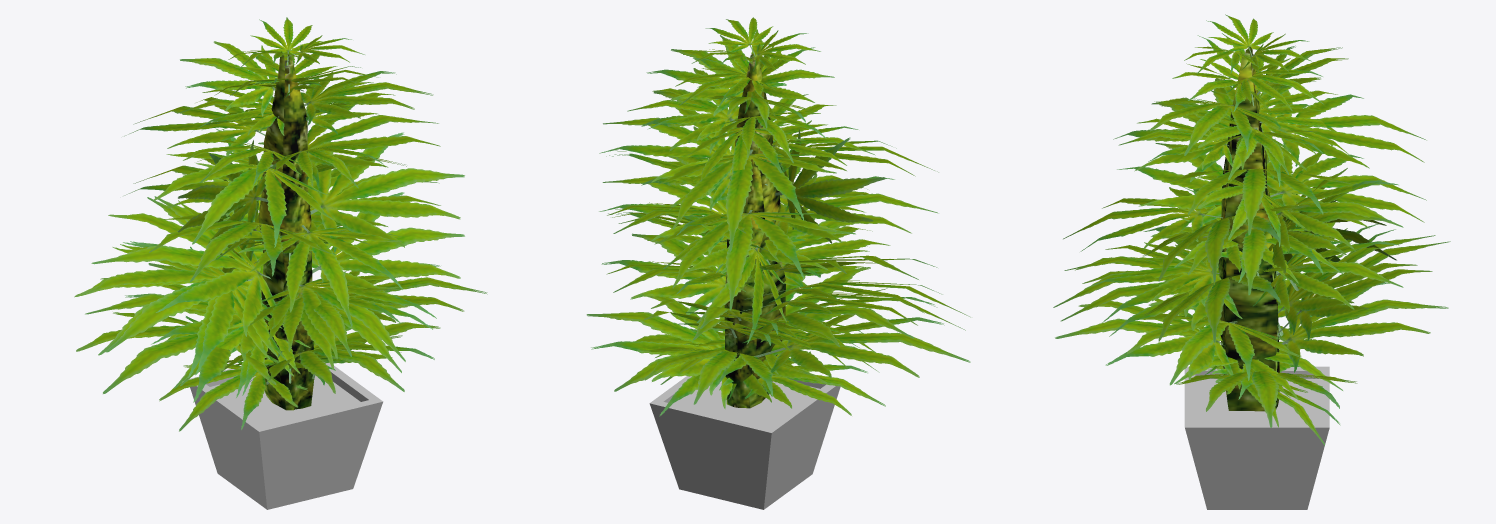
File: kush_plant.FBX
3 views of the same model, side by side, from view 1: azimuth 30°, elevation 25°; view 2: azimuth 150°, elevation 25°; view 3: azimuth 270°, elevation 25° (orthographic). The views are drawn at different scales.
Visible parts, largest first — view 1: kush_plant; view 2: kush_plant; view 3: kush_plant.
Boxes of the visible parts, <box> form: kush_plant: <box>74,17,487,509</box>; kush_plant: <box>586,17,970,509</box>; kush_plant: <box>1053,14,1450,509</box>.
Size of the model in its own units: 48.7 by 47.61 by 42.86.
